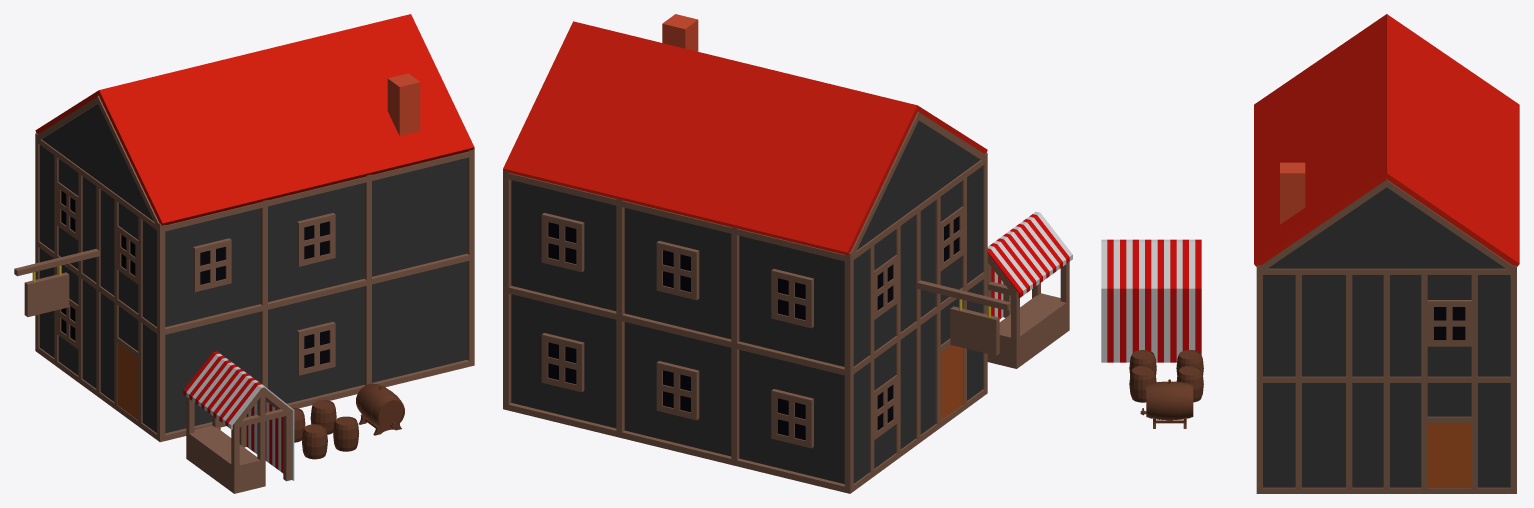
The model's file is timberframedvintner.obj.
The picture shows the model from 3 angles, left to right: view 1: azimuth 30°, elevation 25°; view 2: azimuth 150°, elevation 25°; view 3: azimuth 270°, elevation 25°; orthographic projection. The views are drawn at different scales.
Visible parts, largest first — view 1: Cube.005, Cube.007_Cube.011, Cube.011_Cube.015, Cube.018_Cube.016, Cube.026_Cube.019, barrel_Untitled, Cube.006_Cube.010, Cube.001_Cube.058, Cube.056_Cube.081, Cube.013_Cube.080, Cube.147_Cube.153, Cube.012_Cube.017 (+29 smaller); view 2: Cube.005, Cube.007_Cube.011, Cube.023_Cube.026, Cube.022_Cube.025, Cube.021_Cube.024, Cube.028, Cube.019_Cube.022, Cube.017_Cube.021, Cube.014_Cube.018, Cube.008, Cube.015_Cube.020, Cube.020_Cube.023 (+23 smaller); view 3: Cube.005, Cube.007_Cube.011, Cube.147_Cube.153, Cube.003, Cube.033, barrel_Untitled, Cube.032, Cube.016_Cube.013, Cube.012_Cube.017, Cube.031, Cube.027, Cube.034 (+9 smaller).
Boxes of the visible parts, x1,y1,x2,y2 form: Cube.005: (39,104,467,433); Cube.007_Cube.011: (35,14,474,225); Cube.011_Cube.015: (162,253,472,334); Cube.018_Cube.016: (162,151,469,231); Cube.026_Cube.019: (157,223,165,442); barrel_Untitled: (356,383,404,435); Cube.006_Cube.010: (387,73,420,135); Cube.001_Cube.058: (297,321,335,375); Cube.056_Cube.081: (193,238,231,292); Cube.013_Cube.080: (297,213,335,266); Cube.147_Cube.153: (246,401,294,480); Cube.012_Cube.017: (467,148,474,366); Cube.005: (511,120,982,483); Cube.007_Cube.011: (503,21,987,254); Cube.023_Cube.026: (505,403,848,493); Cube.022_Cube.025: (504,286,848,375); Cube.021_Cube.024: (505,173,848,261); Cube.028: (844,252,853,493); Cube.019_Cube.022: (656,361,699,420); Cube.017_Cube.021: (541,333,584,392); Cube.014_Cube.018: (656,241,699,300); Cube.008: (541,213,584,272); Cube.015_Cube.020: (771,269,813,328); Cube.020_Cube.023: (771,389,813,448); Cube.005: (1263,187,1510,487); Cube.007_Cube.011: (1254,14,1519,266); Cube.147_Cube.153: (1101,288,1201,362); Cube.003: (1427,423,1471,487); Cube.033: (1427,300,1471,346); barrel_Untitled: (1140,379,1193,428); Cube.032: (1261,268,1511,274); Cube.016_Cube.013: (1262,376,1510,382); Cube.012_Cube.017: (1256,265,1262,493); Cube.031: (1261,487,1512,493); Cube.027: (1510,265,1516,493); Cube.034: (1383,268,1389,490).
Bounding box in the file's own units: 15.3 × 11.25 × 13.34.
